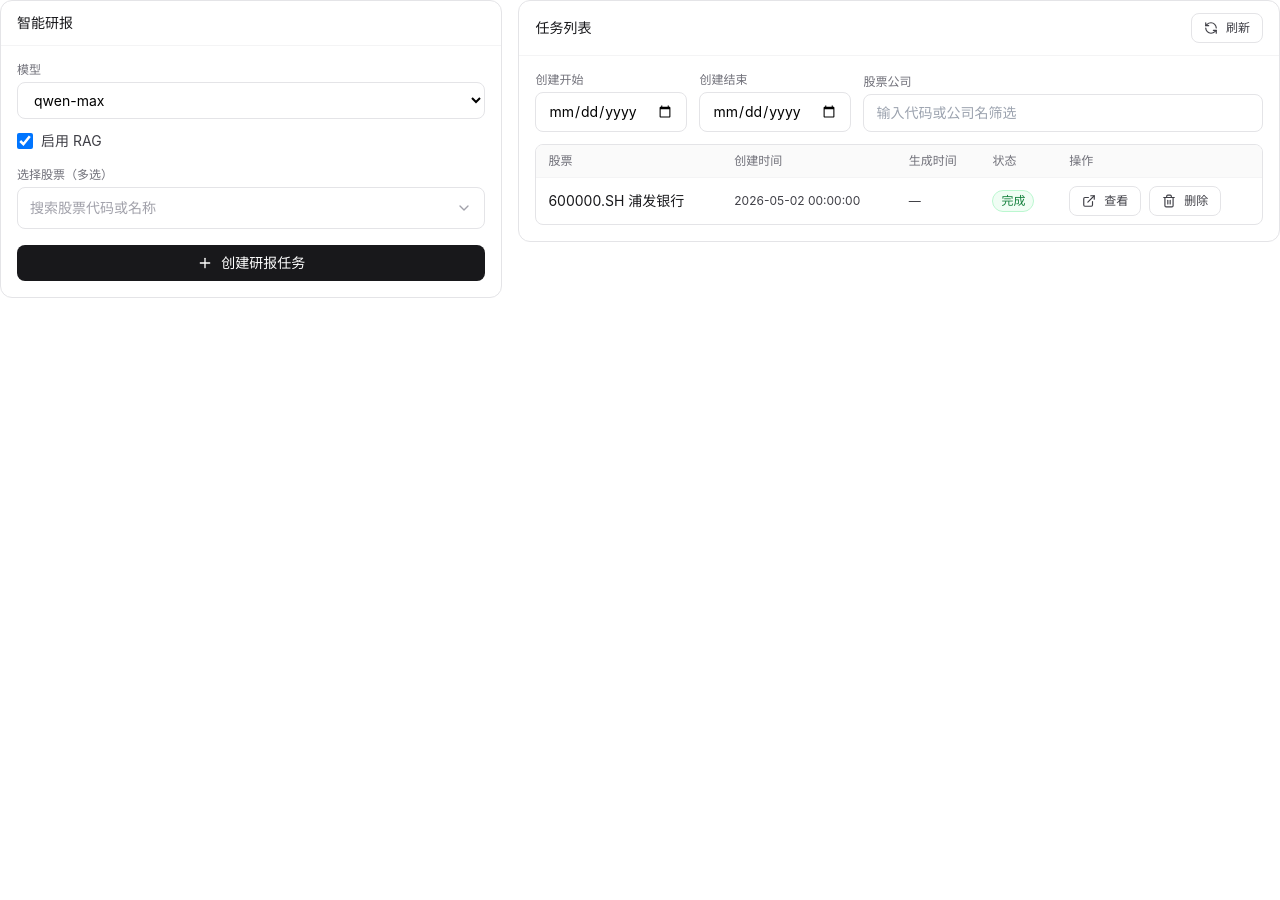
it: reports：成功任务点击查看在页面内渲染 markdown
This screenshot has width=1280, height=900.
Click the button "查看" at (1105, 201), box [1069, 186, 1141, 216]
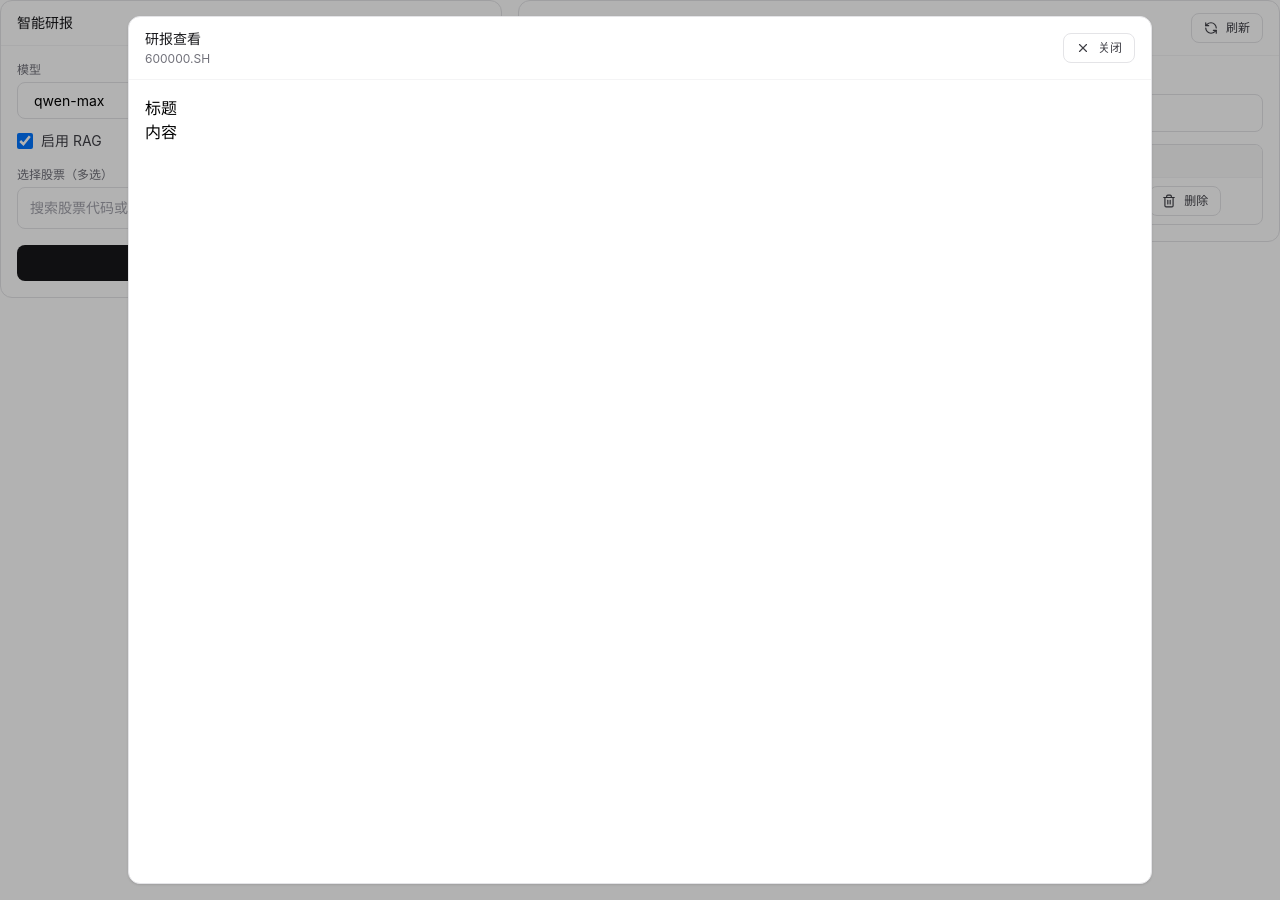
Check: the heading "标题" is shown, box [145, 98, 177, 118]
